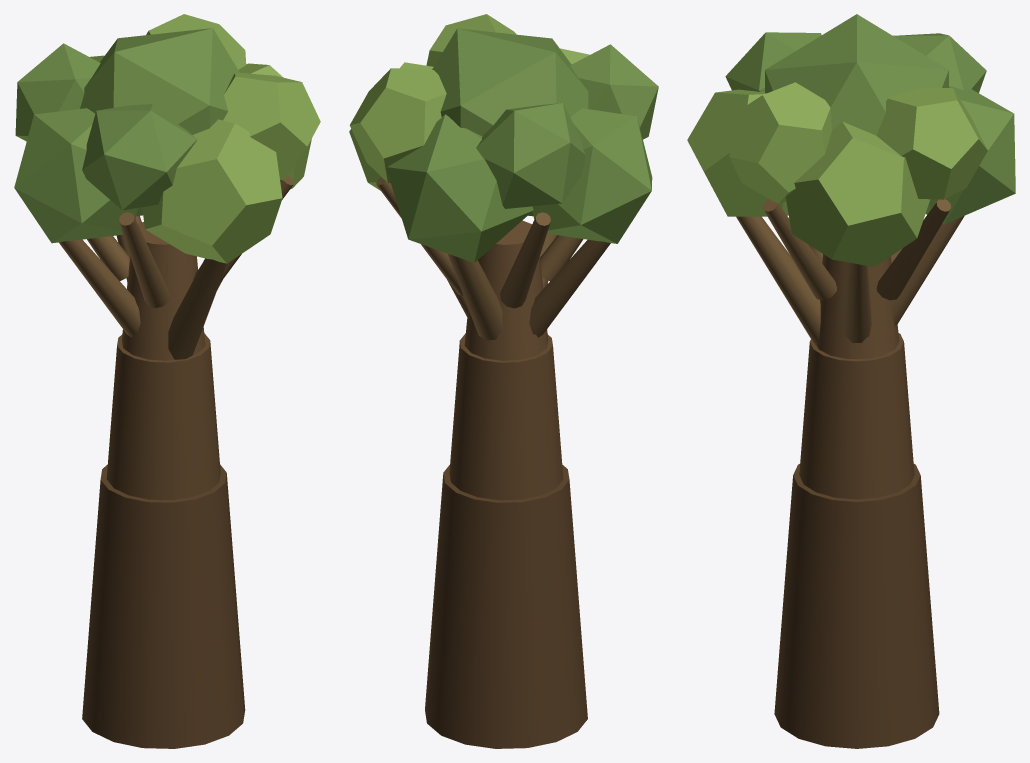
The model's file is yggdrasil-world-tree-merged-2026-04-25T02-07-36-925Z.glb.
3 views of the same model, side by side, from view 1: azimuth 30°, elevation 25°; view 2: azimuth 150°, elevation 25°; view 3: azimuth 270°, elevation 25° (orthographic).
Parts seen in each view (by area): view 1: Trunk Lower, Trunk Mid, Canopy 4, Canopy 1, Canopy 3, Canopy 7, Canopy 6, Trunk Upper, Canopy 9, Branch north, Branch west, Branch nw (+3 smaller); view 2: Trunk Lower, Trunk Mid, Canopy 5, Canopy 1, Canopy 3, Canopy 9, Canopy 8, Trunk Upper, Canopy 7, Branch west, Branch south, Branch sw (+4 smaller); view 3: Trunk Lower, Trunk Mid, Canopy 2, Canopy 1, Canopy 6, Canopy 8, Canopy 5, Canopy 4, Trunk Upper, Branch north, Canopy 7, Canopy 9 (+4 smaller).
Part boxes in pixels (<box>): Trunk Lower: <box>82,464,245,748</box>; Trunk Mid: <box>106,333,220,500</box>; Canopy 4: <box>142,119,282,263</box>; Canopy 1: <box>80,28,239,215</box>; Canopy 3: <box>14,108,138,243</box>; Canopy 7: <box>82,104,196,210</box>; Canopy 6: <box>223,73,320,180</box>; Trunk Upper: <box>122,222,205,360</box>; Canopy 9: <box>15,43,100,141</box>; Branch north: <box>168,258,226,359</box>; Branch west: <box>59,239,140,337</box>; Branch nw: <box>119,212,169,308</box>; Trunk Lower: <box>425,465,587,748</box>; Trunk Mid: <box>449,333,563,500</box>; Canopy 5: <box>386,114,533,262</box>; Canopy 1: <box>432,28,588,216</box>; Canopy 3: <box>532,108,652,243</box>; Canopy 9: <box>476,103,585,208</box>; Canopy 8: <box>349,68,446,183</box>; Trunk Upper: <box>464,220,548,360</box>; Canopy 7: <box>570,44,658,139</box>; Branch west: <box>529,239,610,337</box>; Branch south: <box>447,254,502,340</box>; Branch sw: <box>500,212,550,308</box>; Trunk Lower: <box>774,464,939,748</box>; Trunk Mid: <box>799,333,914,499</box>; Canopy 2: <box>785,121,930,267</box>; Canopy 1: <box>765,14,948,135</box>; Canopy 6: <box>729,82,831,204</box>; Canopy 8: <box>876,87,987,199</box>; Canopy 5: <box>925,86,1015,224</box>; Canopy 4: <box>687,89,788,216</box>; Trunk Upper: <box>817,254,899,358</box>; Branch north: <box>736,216,820,345</box>; Canopy 7: <box>725,32,821,91</box>; Canopy 9: <box>893,33,986,92</box>.
Size of the model in its own units: 61.91 by 135 by 59.66.
